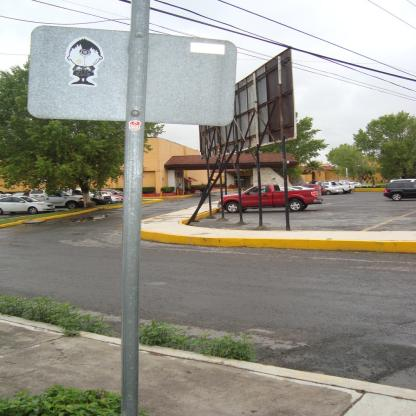Car: (1, 187, 125, 216), (277, 181, 360, 201), (382, 181, 416, 197), (383, 179, 416, 186)
